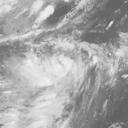cyclone: (21, 42, 81, 103)
